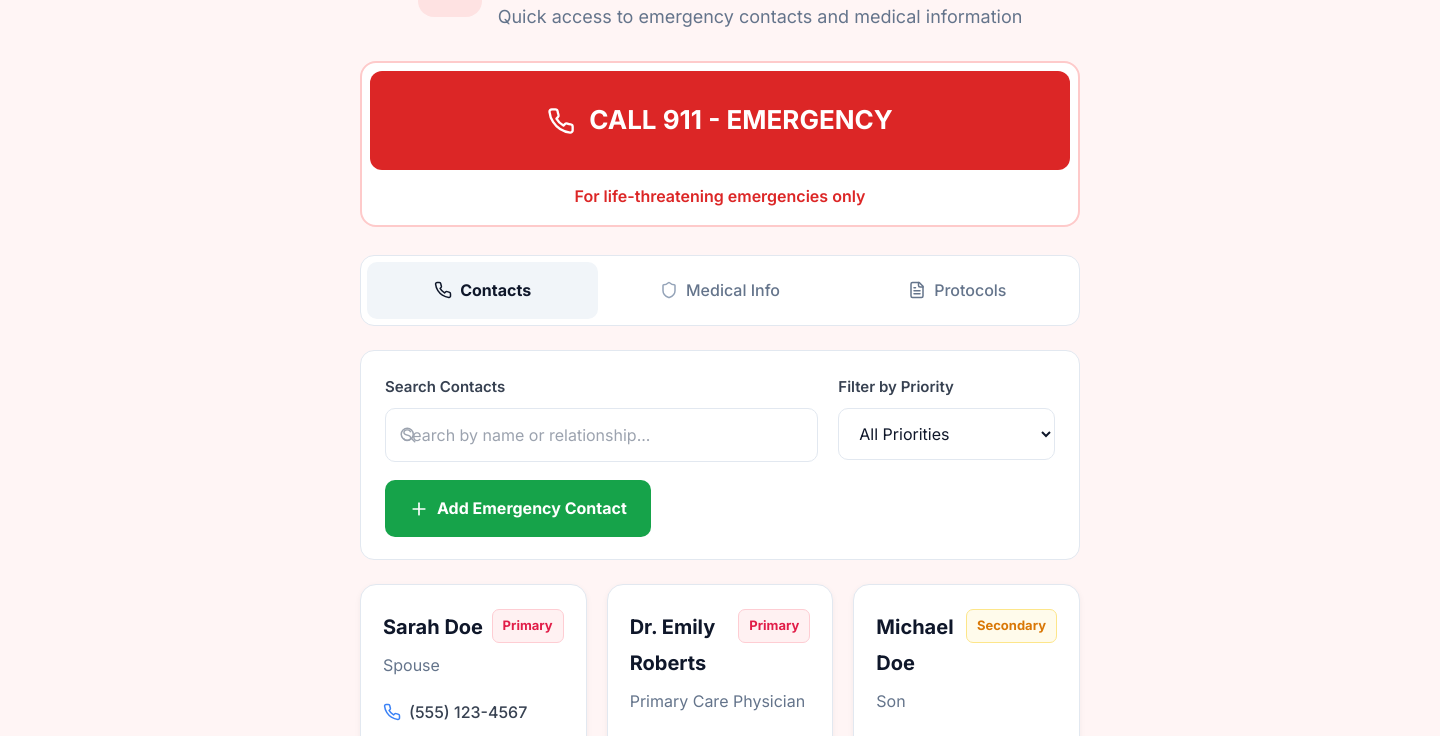
Test case: EmergencyPage › adds a new emergency contact
This screenshot has width=1440, height=736.
Click the button "Add Emergency Contact".
click(518, 509)  # box left=385, top=480, right=651, bottom=537
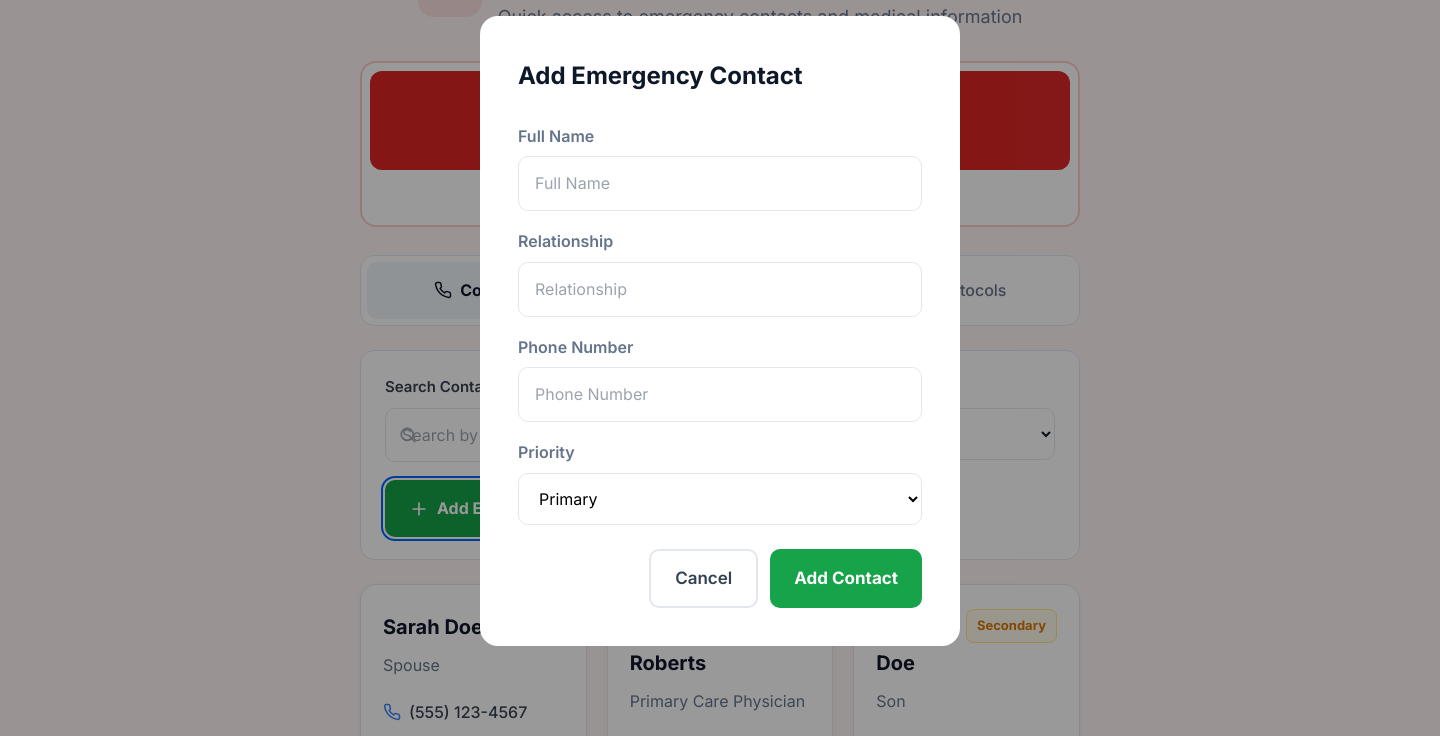
Type "Jane Doe" into the field with placeholder "Full Name".
click(720, 184); type("Jane Doe")  # box left=518, top=156, right=922, bottom=211
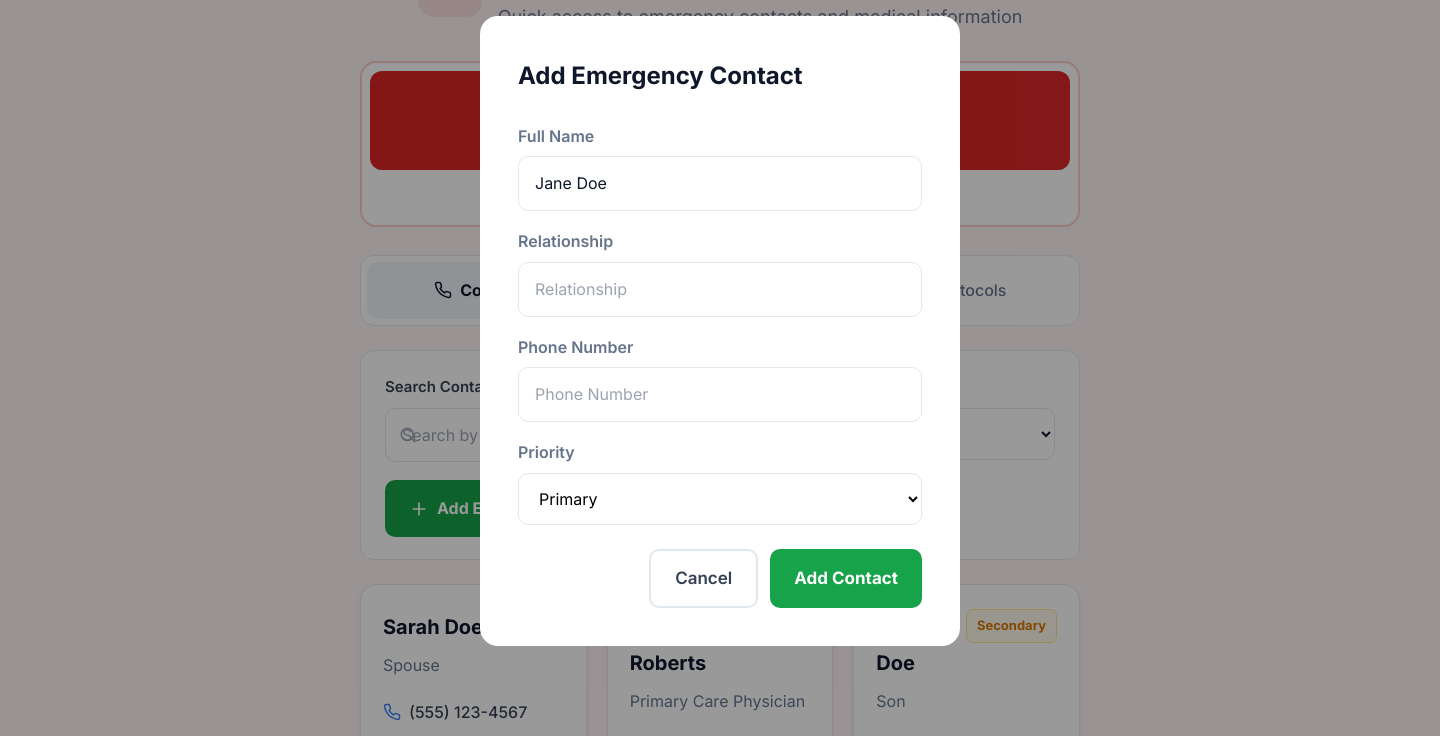
Type "Sister" into the field with placeholder "Relationship".
click(720, 289); type("Sister")  # box left=518, top=262, right=922, bottom=317
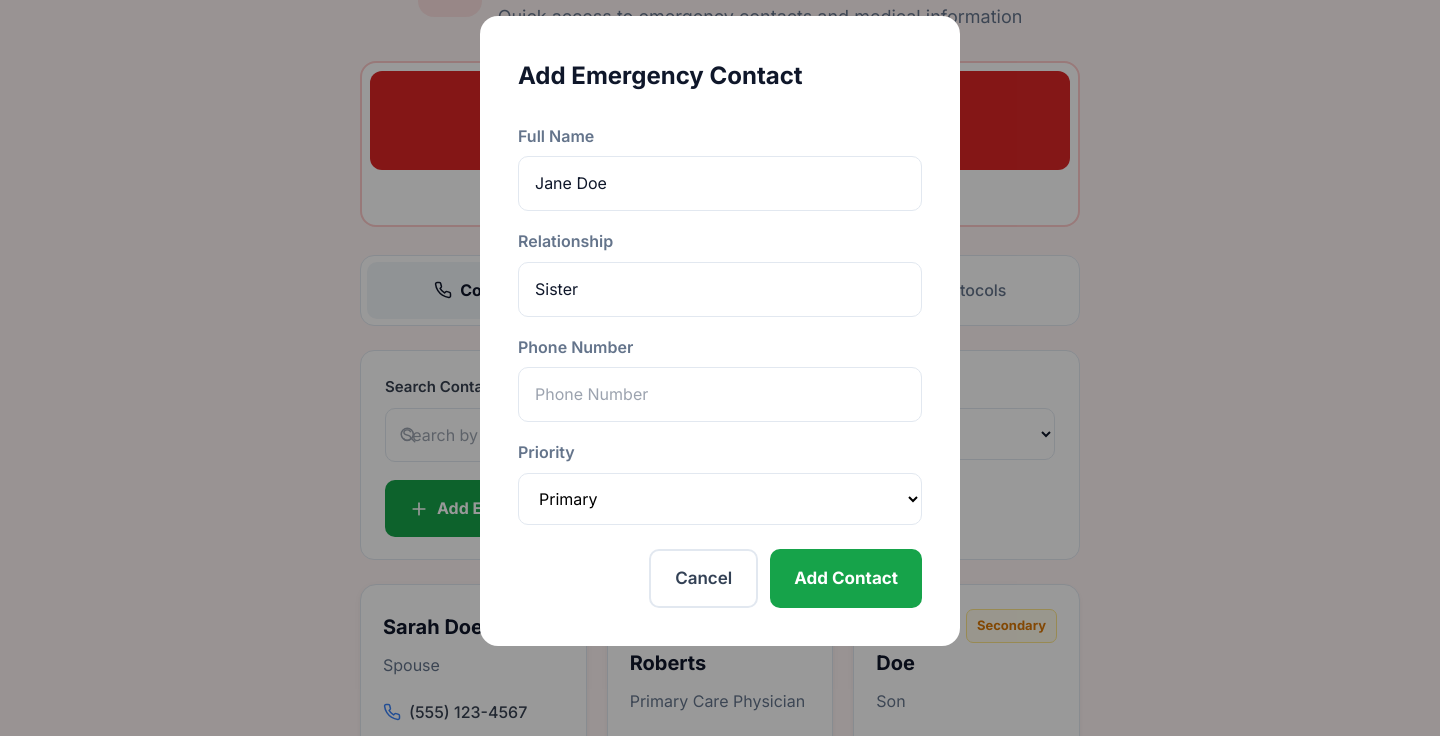
Type "(555) 777-8888" into the field with placeholder "Phone Number".
click(720, 395); type("(555) 777-8888")  # box left=518, top=368, right=922, bottom=422
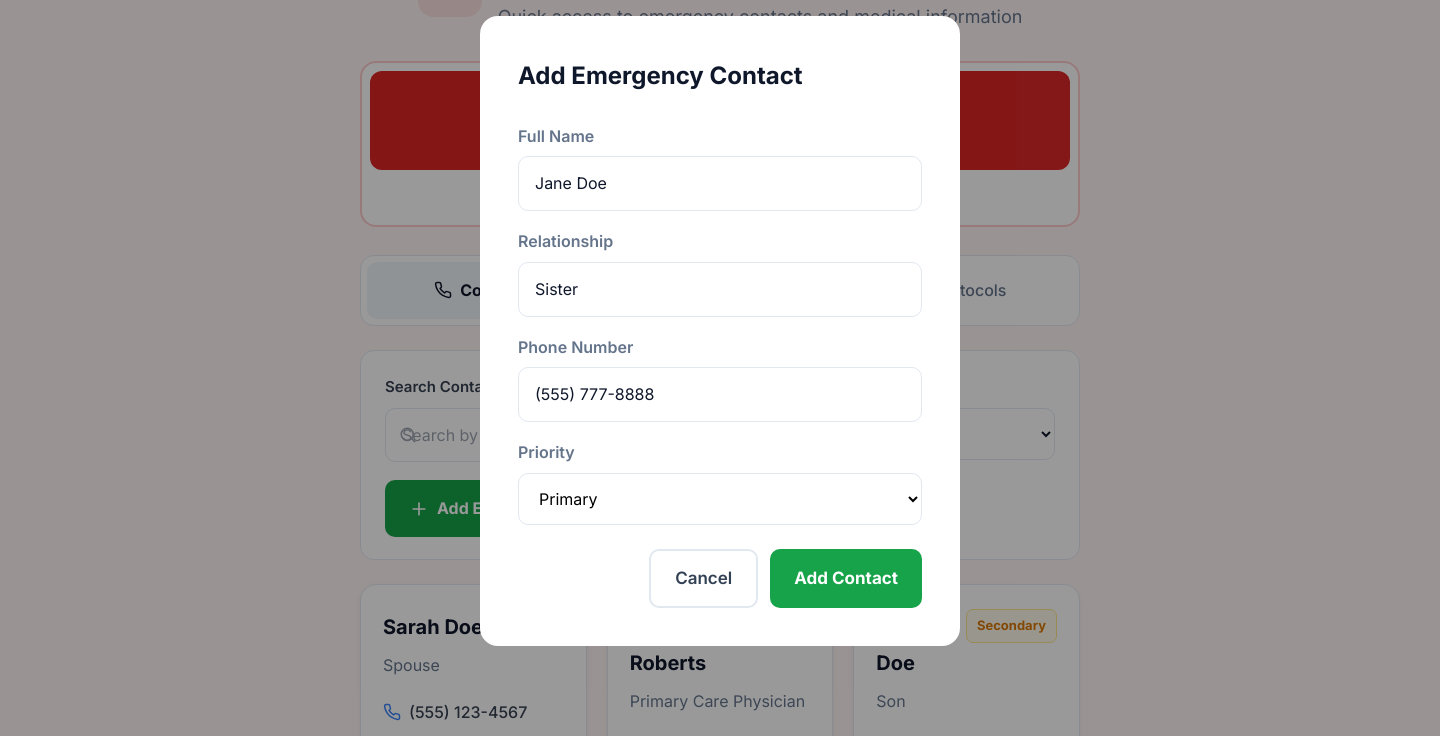
Select "Secondary" in the dropdown at (720, 499), box left=518, top=473, right=922, bottom=525
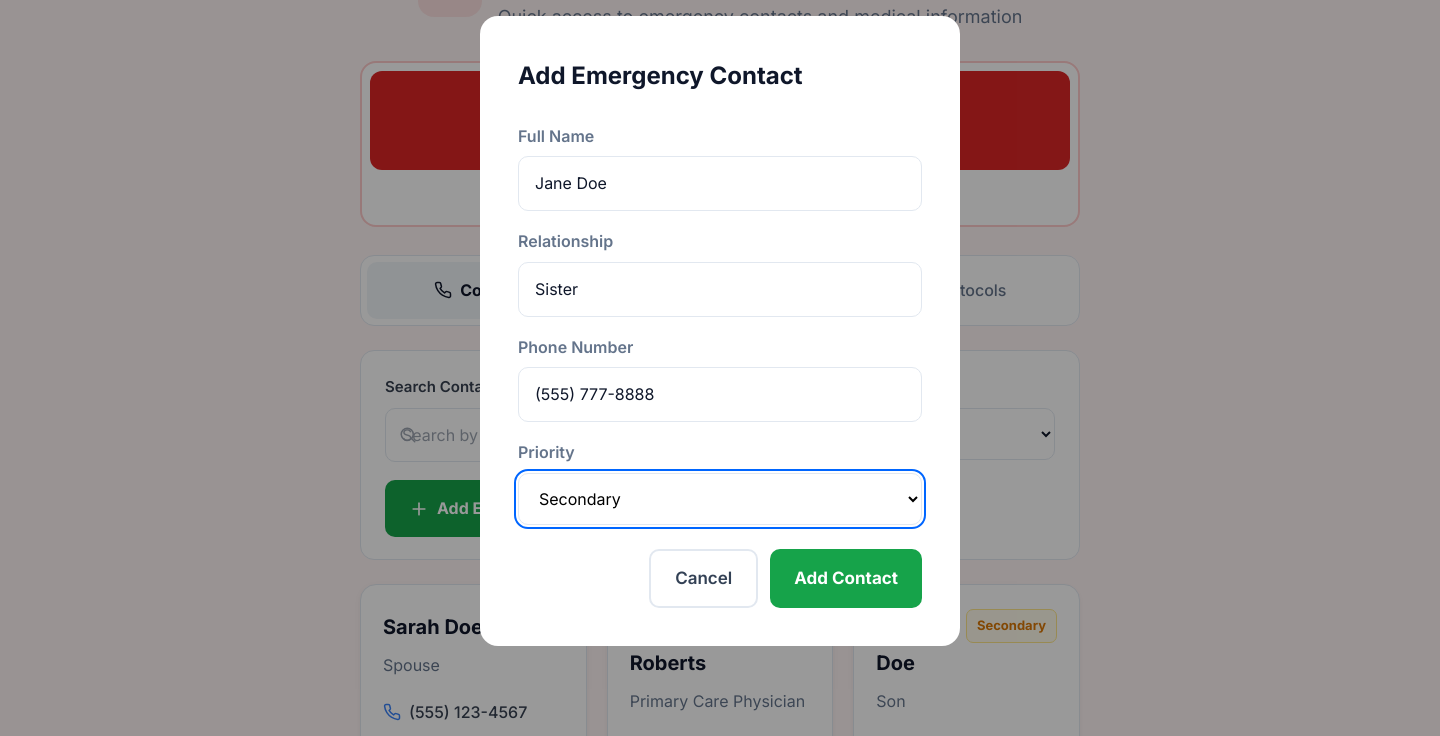
Click the button "Add Contact".
click(846, 578)  # box left=770, top=549, right=922, bottom=608
(page scrolled)
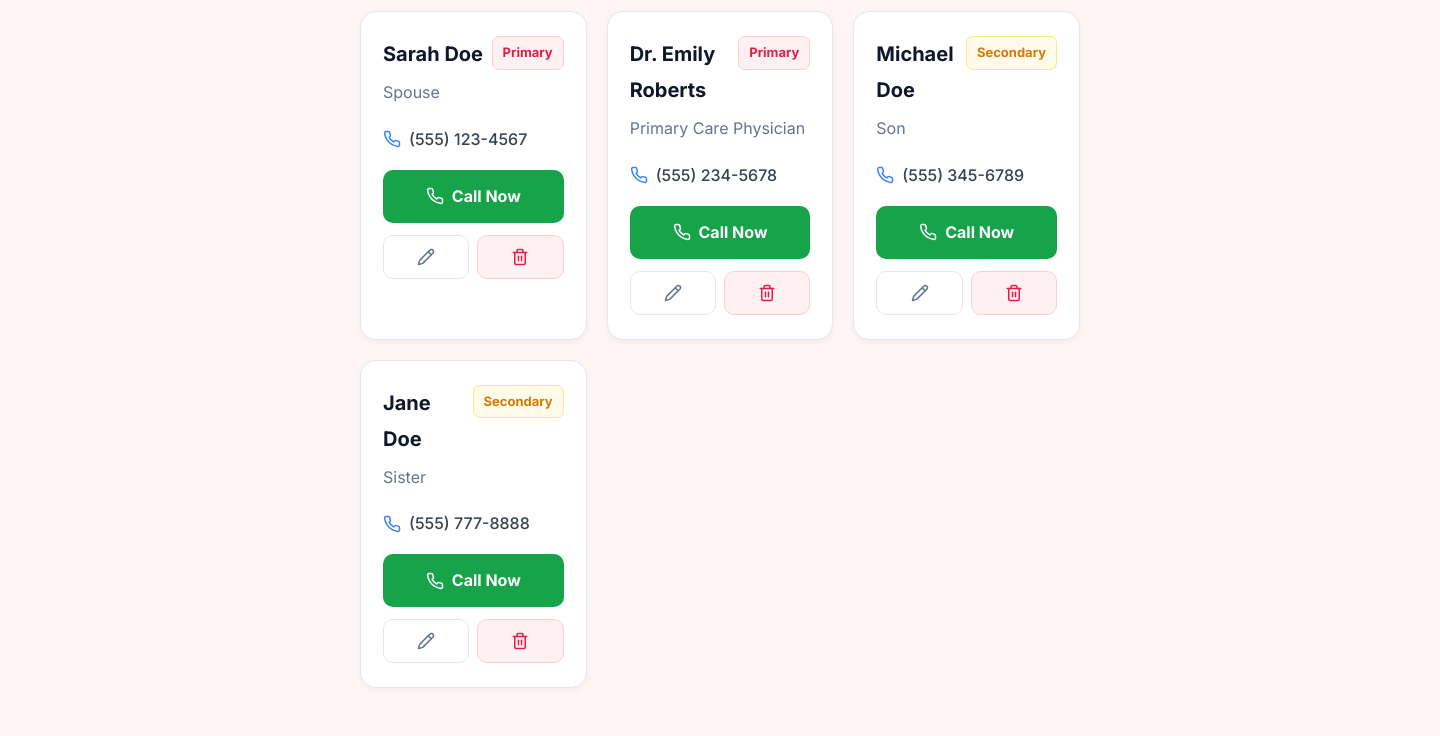
Now the text "Jane Doe" is shown, box left=383, top=391, right=431, bottom=451
Now the text "Sister" is shown, box left=383, top=467, right=426, bottom=487
Now the text "(555) 777-8888" is shown, box left=409, top=509, right=530, bottom=538
